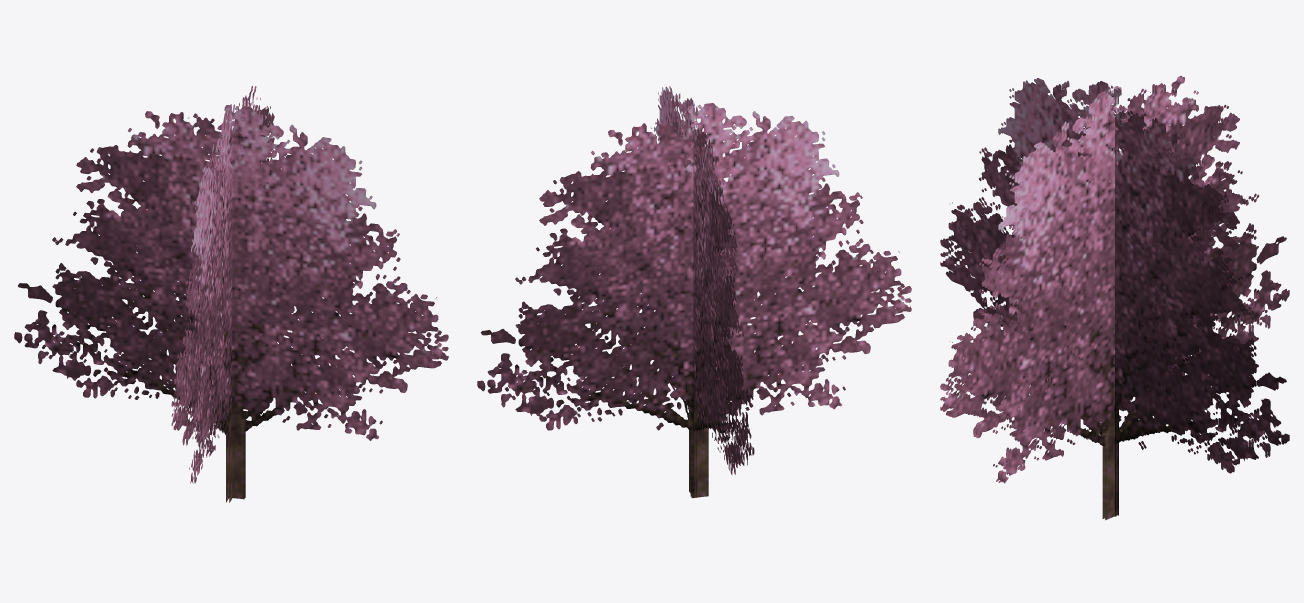
File: tree069.fbx
The picture shows the model from 3 angles, left to right: view 1: azimuth 30°, elevation 25°; view 2: azimuth 150°, elevation 25°; view 3: azimuth 270°, elevation 25°; orthographic projection. The views are drawn at different scales.
Visible parts, largest first — view 1: tree069; view 2: tree069; view 3: tree069.
Boxes of the visible parts, x1,y1,x2,y2 form: tree069: (14, 86, 448, 502); tree069: (477, 86, 911, 497); tree069: (940, 76, 1289, 520).
Bounding box in the file's own units: 241 × 335 × 241.
Materials: 1 (1 with a texture image).
